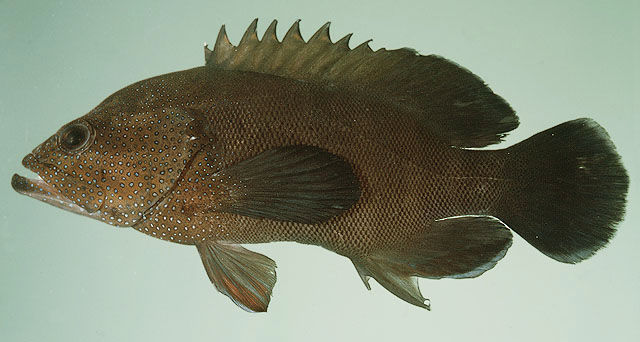fish: (11, 19, 630, 314)
